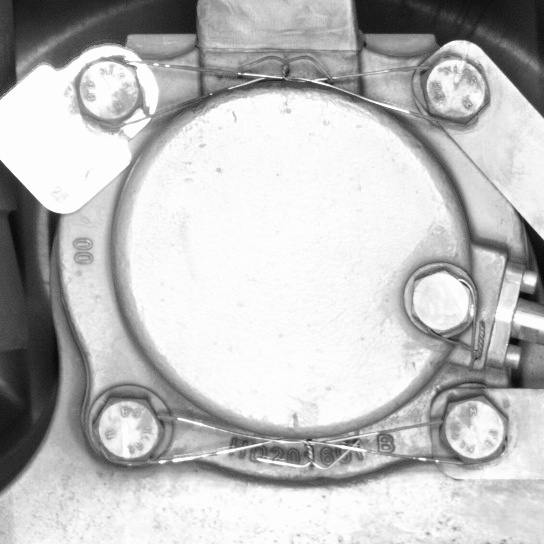IronWire: (85, 387, 515, 473), (68, 49, 493, 134)
Screw: (410, 48, 494, 132), (430, 388, 514, 470), (85, 389, 170, 469), (68, 50, 145, 131)
